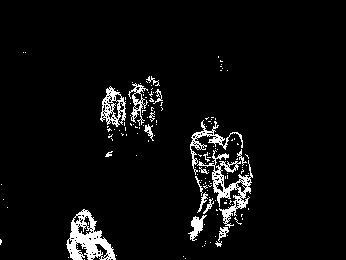person: (188, 114, 230, 240), (213, 130, 254, 248), (65, 209, 118, 260), (129, 73, 164, 142), (99, 84, 127, 158)
